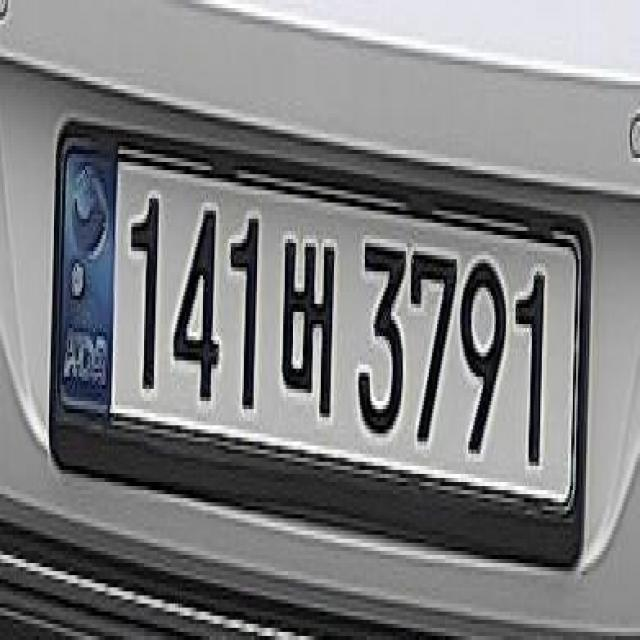illegal_plate: (40, 120, 588, 546)
